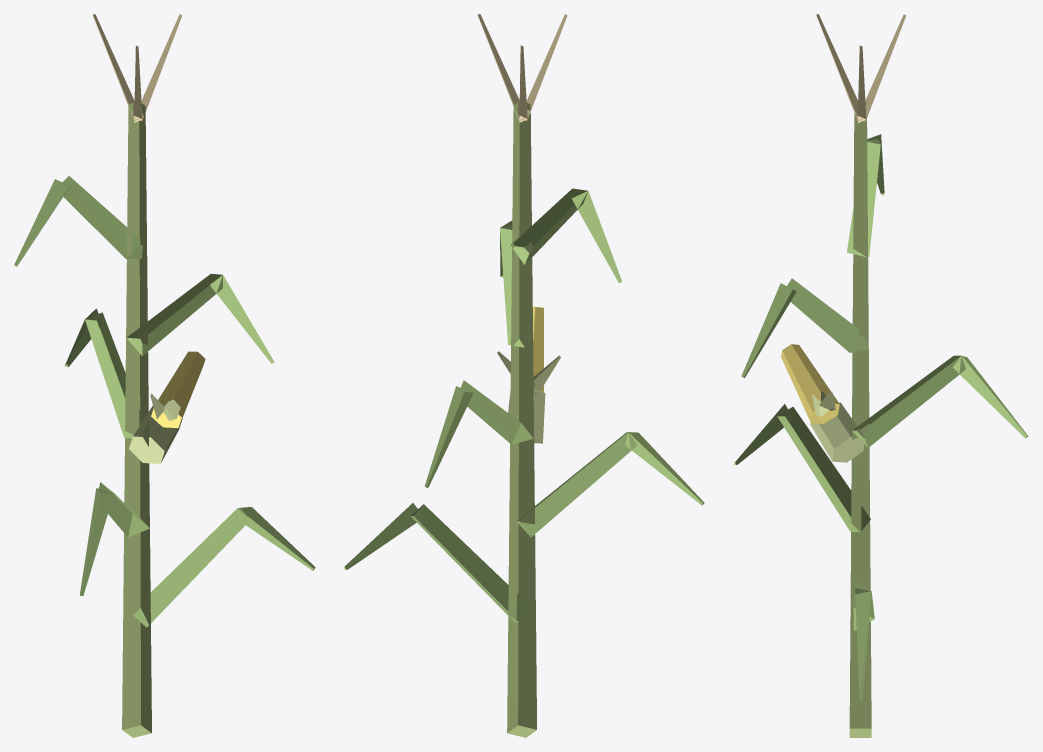
The model's file is field_corn_1.glb.
3 renders of one model, left to right at view 1: azimuth 30°, elevation 25°; view 2: azimuth 150°, elevation 25°; view 3: azimuth 270°, elevation 25°, orthographic.
Parts seen in each view (by area): view 1: Stalk, Leaf, Leaf#7, Leaf#5, Leaf#9, Cob, Cob.Husk, Leaf#4, Leaf#2, Leaf#8, Leaf#10, Leaf#3 (+3 smaller); view 2: Stalk, Leaf, Leaf#3, Leaf#9, Leaf#5, Leaf#6, Leaf#4, Leaf#10, Leaf#2, Leaf#7, Cob, Tassel (+2 smaller); view 3: Stalk, Leaf#3, Leaf#5, Leaf#7, Cob, Cob.Husk, Leaf#9, Leaf#2, Leaf#8, Leaf#6, Leaf#4, Tassel#2 (+1 smaller).
Boxes of the visible parts, <box> form: Stalk: <box>122,103,151,737</box>; Leaf: <box>133,508,250,627</box>; Leaf#7: <box>126,274,222,356</box>; Leaf#5: <box>85,312,146,438</box>; Leaf#9: <box>60,176,142,259</box>; Cob: <box>151,351,205,428</box>; Cob.Husk: <box>129,405,182,463</box>; Leaf#4: <box>79,488,113,595</box>; Leaf#2: <box>237,507,315,570</box>; Leaf#8: <box>210,275,274,363</box>; Leaf#10: <box>14,179,69,266</box>; Leaf#3: <box>99,482,149,537</box>; Stalk: <box>507,103,536,737</box>; Leaf: <box>411,504,531,622</box>; Leaf#3: <box>516,432,637,537</box>; Leaf#9: <box>510,188,587,264</box>; Leaf#5: <box>460,380,533,444</box>; Leaf#6: <box>424,386,473,487</box>; Leaf#4: <box>625,432,704,505</box>; Leaf#10: <box>571,191,621,282</box>; Leaf#2: <box>344,503,423,569</box>; Leaf#7: <box>500,225,530,347</box>; Cob: <box>532,306,543,391</box>; Tassel: <box>477,14,525,120</box>; Stalk: <box>849,102,871,737</box>; Leaf#3: <box>777,407,870,532</box>; Leaf#5: <box>852,355,965,447</box>; Leaf#7: <box>787,278,868,352</box>; Cob: <box>781,344,839,424</box>; Cob.Husk: <box>810,402,865,462</box>; Leaf#9: <box>847,139,880,257</box>; Leaf#2: <box>855,588,871,700</box>; Leaf#8: <box>741,283,796,377</box>; Leaf#6: <box>953,356,1028,438</box>; Leaf#4: <box>733,404,793,465</box>; Tassel#2: <box>816,14,863,121</box>.
Bounding box in the file's own units: 1.1 × 2.48 × 0.937.
